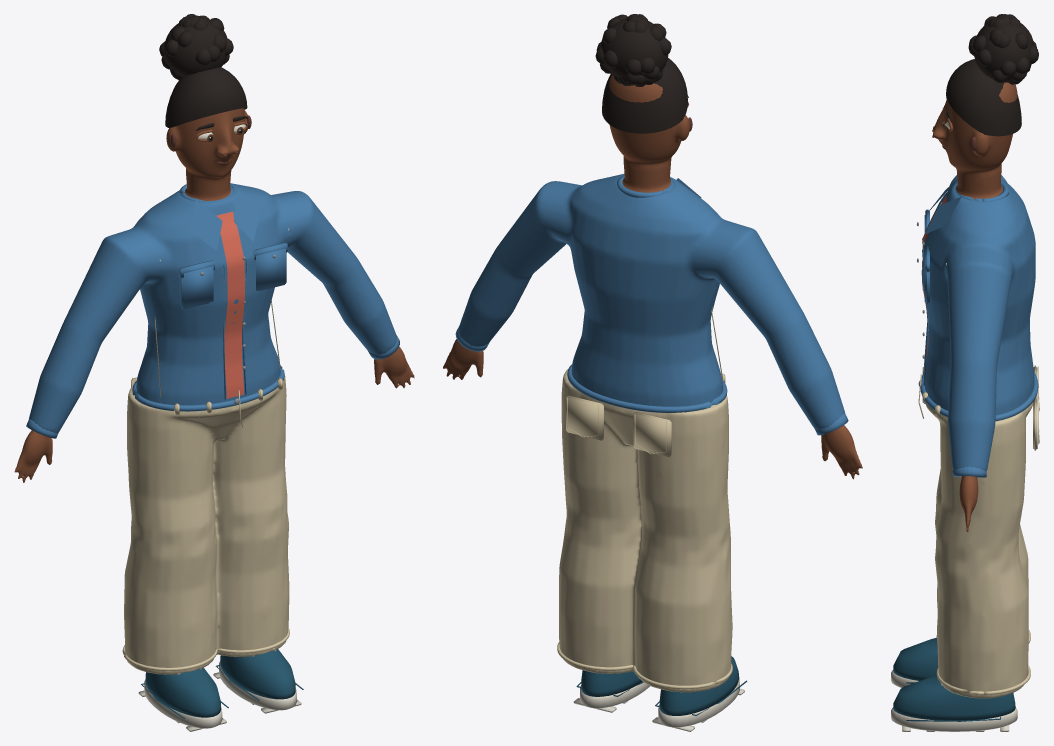
Rendered from NPC2_02_Civil_Female_Denim.fbx.
3 views of the same model, side by side, from view 1: azimuth 30°, elevation 25°; view 2: azimuth 150°, elevation 25°; view 3: azimuth 270°, elevation 25° (orthographic). The views are drawn at different scales.
Visible parts, largest first — view 1: Trouser_Continuous.001, Garment_Top_Continuous.001, Skin_02_Civil_Female_Denim, Hair_Cap.001, Undershirt_Front.001, Shoe_Upper.002, Shoe_Upper.003, Hair_PuffVolume, Chest_Pocket, Chest_Pocket.001, Top_Hem.001, Collar_Lapel (+3 smaller); view 2: Garment_Top_Continuous.001, Trouser_Continuous.001, Skin_02_Civil_Female_Denim, Hair_Cap.001, Hair_PuffVolume, Shoe_Upper.002, Back_Pocket.002, Back_Pocket.003, Top_Hem.001, Shoe_Upper.003, Shoe_Sole.002, Shoe_Sole.003; view 3: Garment_Top_Continuous.001, Trouser_Continuous.001, Skin_02_Civil_Female_Denim, Hair_Cap.001, Shoe_Upper.003, Hair_PuffVolume, Shoe_Upper.002, Shoe_Sole.003, Top_Hem.001, Collar_Lapel.001, Trouser_Hem.003, Sleeve_Cuff.003 (+1 smaller).
Boxes of the visible parts, x1,y1,x2,y2 form: Trouser_Continuous.001: (124,374,289,674); Garment_Top_Continuous.001: (29,183,396,433); Skin_02_Civil_Female_Denim: (14,81,414,482); Hair_Cap.001: (165,67,247,127); Undershirt_Front.001: (216,211,244,398); Shoe_Upper.002: (145,667,220,717); Shoe_Upper.003: (220,649,295,699); Hair_PuffVolume: (164,18,227,76); Chest_Pocket: (181,266,213,309); Chest_Pocket.001: (256,248,286,290); Top_Hem.001: (132,365,284,411); Collar_Lapel: (189,200,222,250); Garment_Top_Continuous.001: (458,174,844,430); Trouser_Continuous.001: (559,369,732,692); Skin_02_Civil_Female_Denim: (443,75,862,479); Hair_Cap.001: (602,58,687,133); Hair_PuffVolume: (600,18,668,77); Shoe_Upper.002: (659,656,738,715); Back_Pocket.002: (633,412,671,457); Back_Pocket.003: (566,395,603,440); Top_Hem.001: (567,364,727,412); Shoe_Upper.003: (581,670,642,696); Shoe_Sole.002: (658,676,739,727); Shoe_Sole.003: (580,682,650,708); Garment_Top_Continuous.001: (922,175,1035,471); Trouser_Continuous.001: (925,402,1032,698); Skin_02_Civil_Female_Denim: (933,82,1017,531); Hair_Cap.001: (946,59,1021,136); Shoe_Upper.003: (893,675,1015,720); Hair_PuffVolume: (974,22,1034,82); Shoe_Upper.002: (893,637,938,680); Shoe_Sole.003: (891,708,1017,731); Top_Hem.001: (920,371,1038,421); Collar_Lapel.001: (924,196,961,234); Trouser_Hem.003: (936,665,1030,694); Sleeve_Cuff.003: (952,466,986,477).
Size of the model in its own units: 1.16 by 1.85 by 0.3628.
